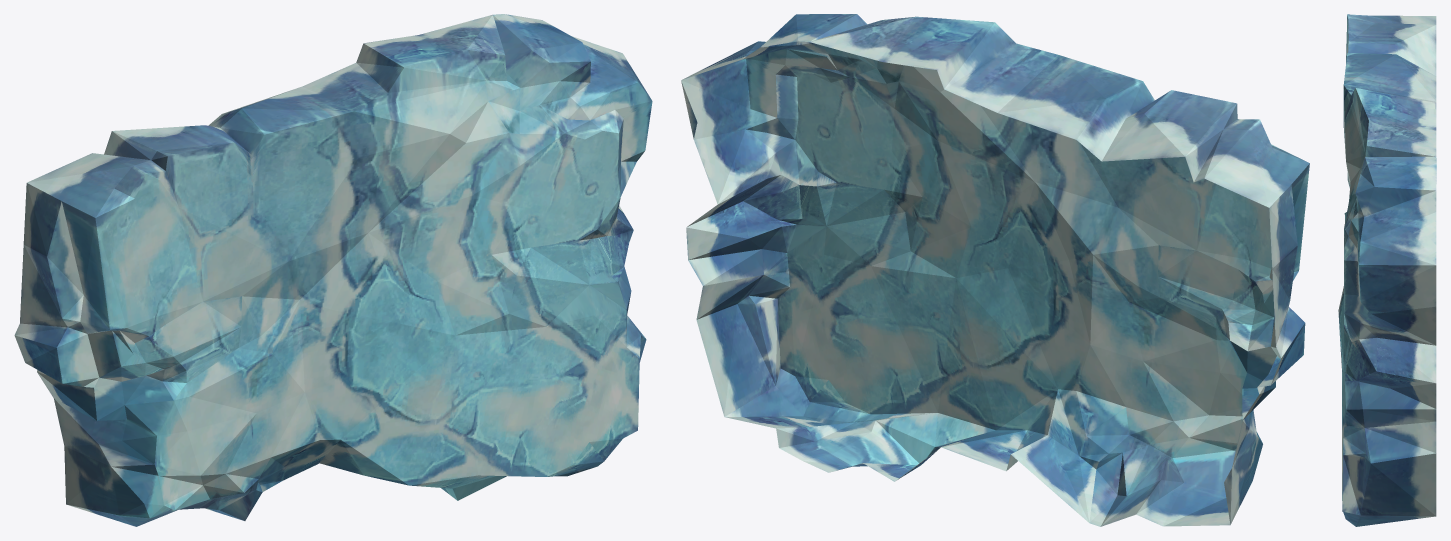
Rendered from fuben_660_bingkuai01.obj.
The picture shows the model from 3 angles, left to right: view 1: azimuth 30°, elevation 25°; view 2: azimuth 150°, elevation 25°; view 3: azimuth 270°, elevation 25°; orthographic projection. The views are drawn at different scales.
Visible parts, largest first — view 1: fuben_660_bingkuai01; view 2: fuben_660_bingkuai01; view 3: fuben_660_bingkuai01.
Boxes of the visible parts, x1,y1,x2,y2 form: fuben_660_bingkuai01: [14, 14, 652, 526]; fuben_660_bingkuai01: [681, 14, 1309, 526]; fuben_660_bingkuai01: [1338, 14, 1436, 526].
Bounding box in the file's own units: 992 × 713 × 171.
1 material, 1 textured.
